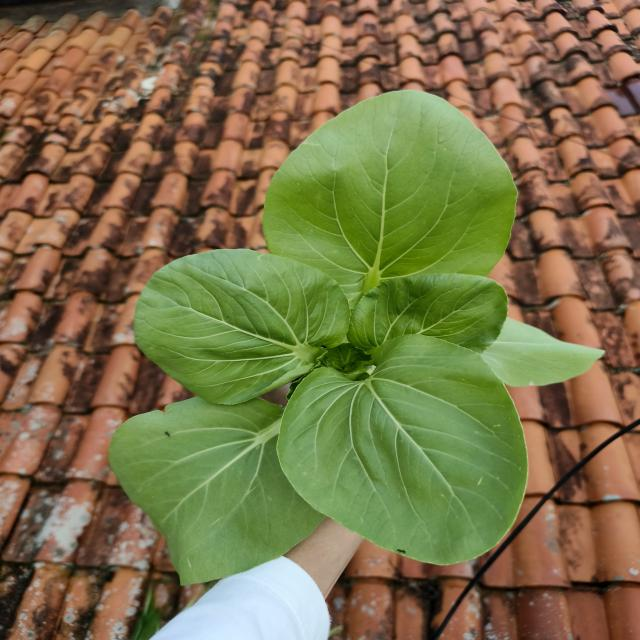daun-pakcoy: (278, 335, 526, 564), (263, 91, 517, 308), (110, 397, 324, 585), (134, 249, 350, 404), (482, 313, 624, 427), (349, 273, 506, 353)
